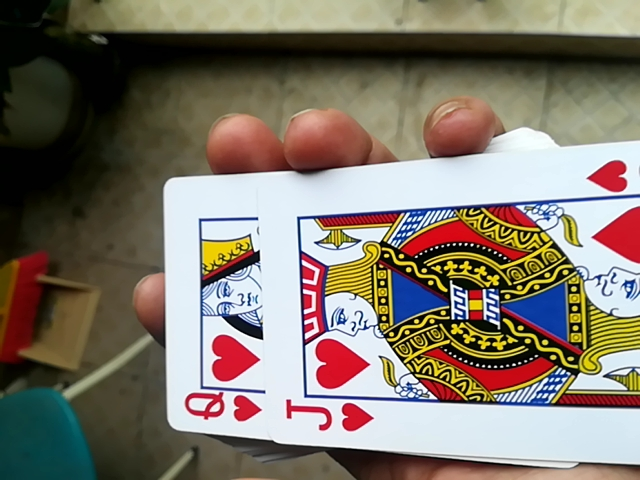hx j: (154, 142, 639, 474)
